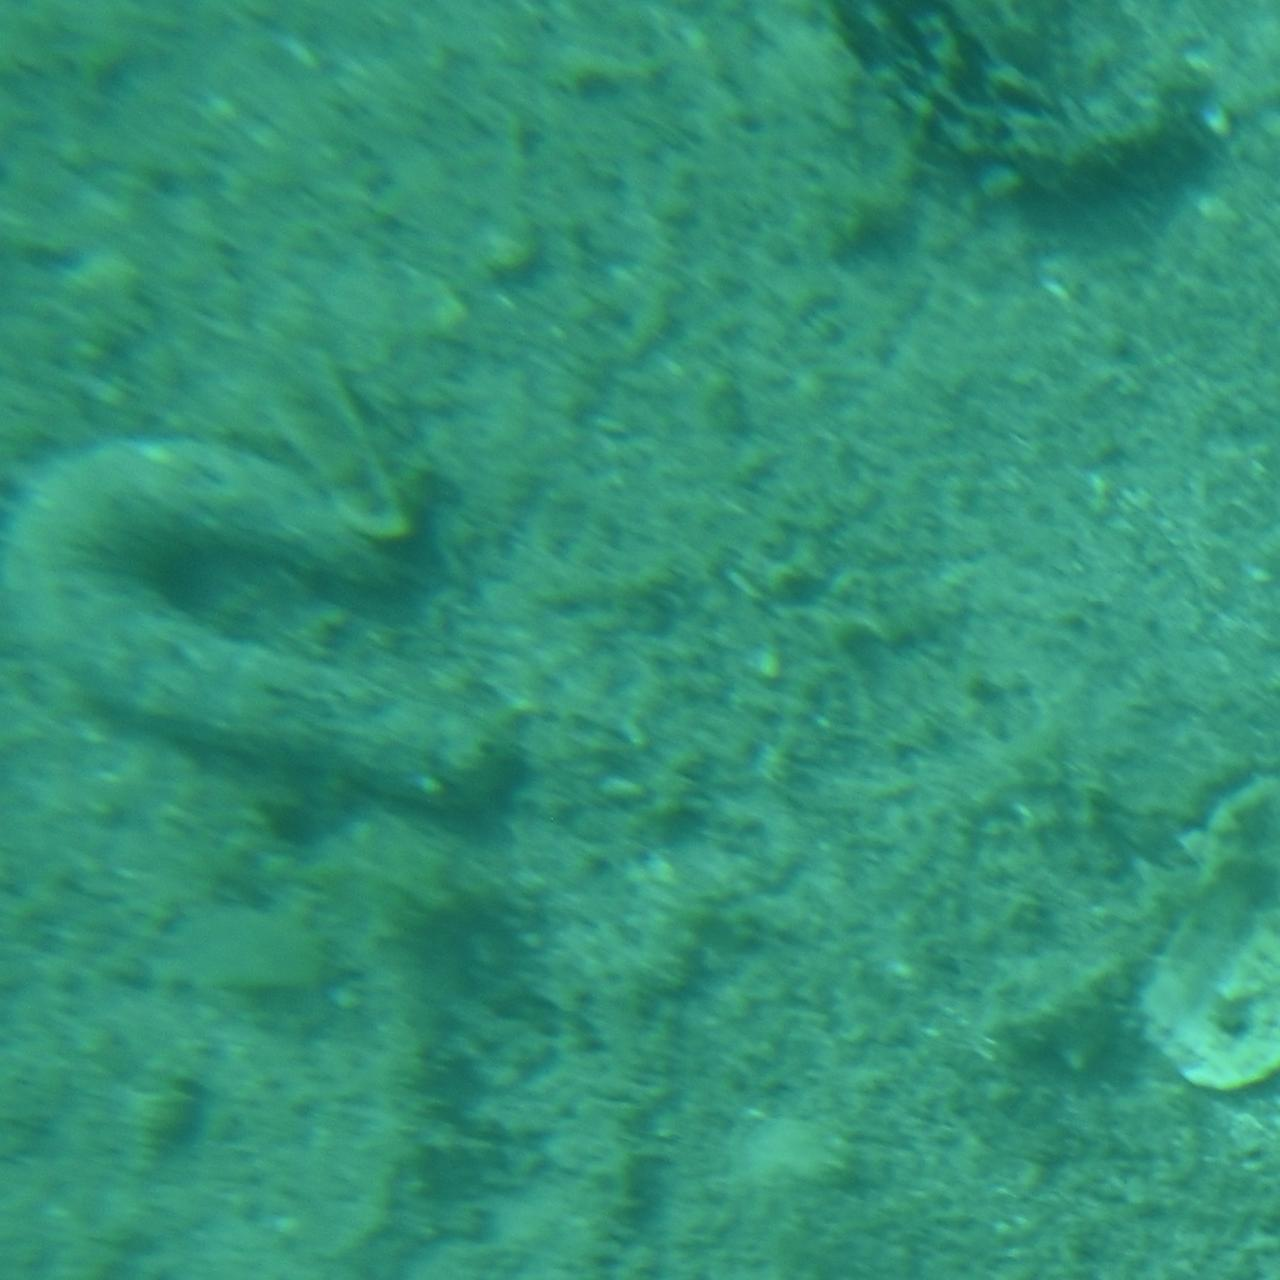Holothuria tubulosa: (0, 436, 542, 803), (792, 0, 1235, 251)
